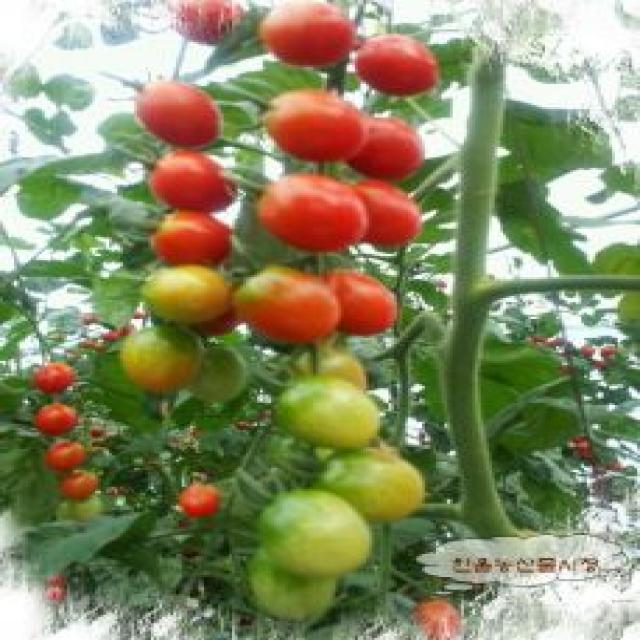level 2: (178, 342, 261, 416)
level 3: (257, 477, 367, 584), (237, 535, 348, 639), (254, 380, 393, 458), (114, 310, 219, 411), (316, 443, 444, 523), (118, 255, 233, 326), (288, 345, 386, 406)
level 5: (240, 261, 344, 358), (315, 261, 406, 340), (400, 595, 474, 640), (51, 470, 121, 506), (40, 585, 66, 604), (42, 571, 66, 590)
level 6: (250, 78, 374, 168), (331, 19, 442, 104), (334, 175, 436, 260), (252, 172, 361, 249), (134, 70, 236, 151), (136, 137, 242, 214), (250, 0, 358, 72), (336, 112, 432, 188), (144, 202, 246, 269), (162, 0, 257, 57), (23, 403, 90, 439), (35, 356, 85, 399), (160, 480, 224, 513), (33, 444, 96, 470)
